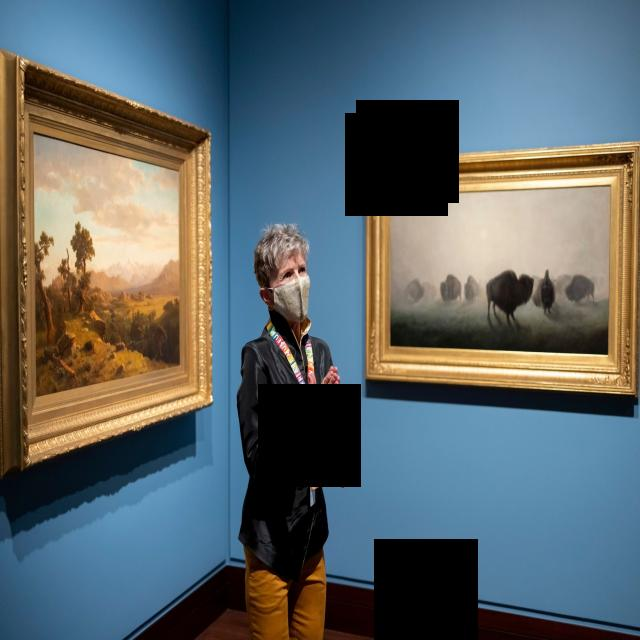Tablo: (33, 131, 180, 398), (389, 185, 611, 355)
